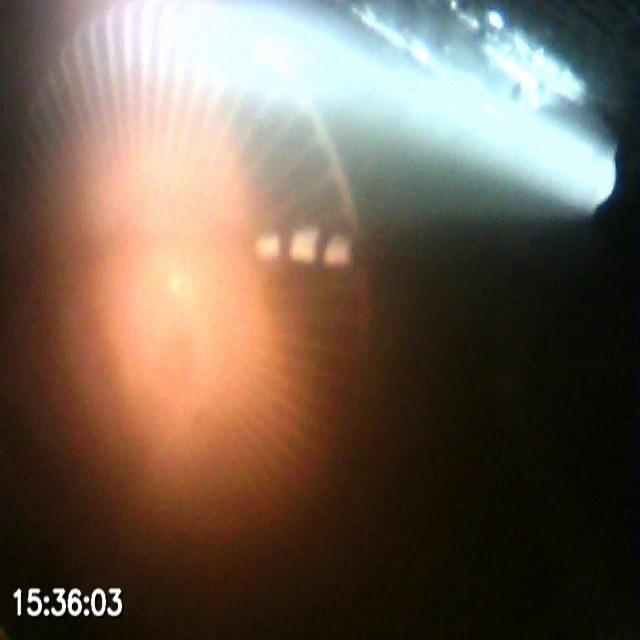white-dots: (252, 226, 355, 270)
